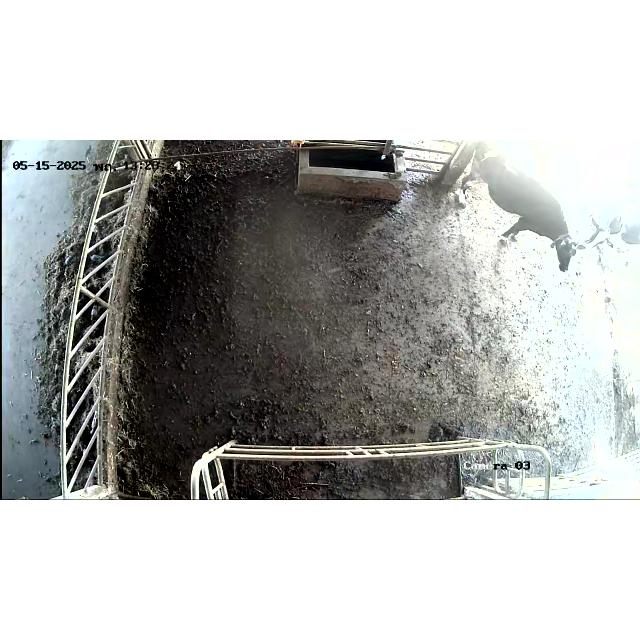stand: (456, 140, 585, 271)
